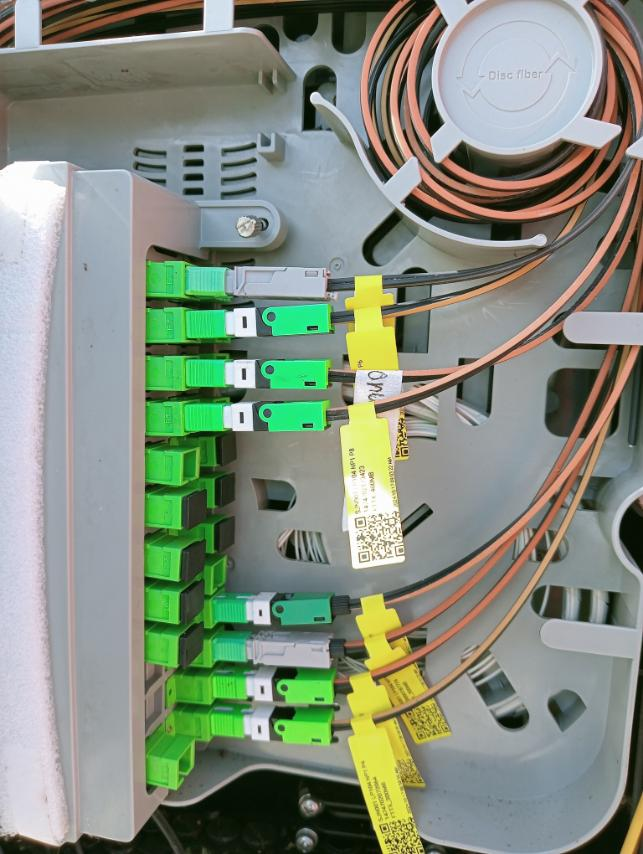no dust cap: (206, 350, 236, 389), (204, 394, 233, 433), (205, 307, 234, 346), (177, 739, 196, 790), (211, 266, 236, 302), (179, 450, 198, 485), (209, 559, 227, 594)
no port: (139, 647, 166, 700), (139, 684, 166, 736)
occupied: (183, 357, 337, 391), (205, 707, 345, 744), (210, 630, 350, 667), (217, 590, 357, 627), (181, 401, 335, 434), (185, 267, 339, 300), (209, 669, 349, 705), (184, 306, 334, 337)
vacant: (180, 579, 205, 627), (182, 622, 204, 671), (182, 539, 207, 581), (212, 520, 237, 553), (187, 490, 207, 527), (217, 473, 235, 507), (220, 433, 236, 467)
